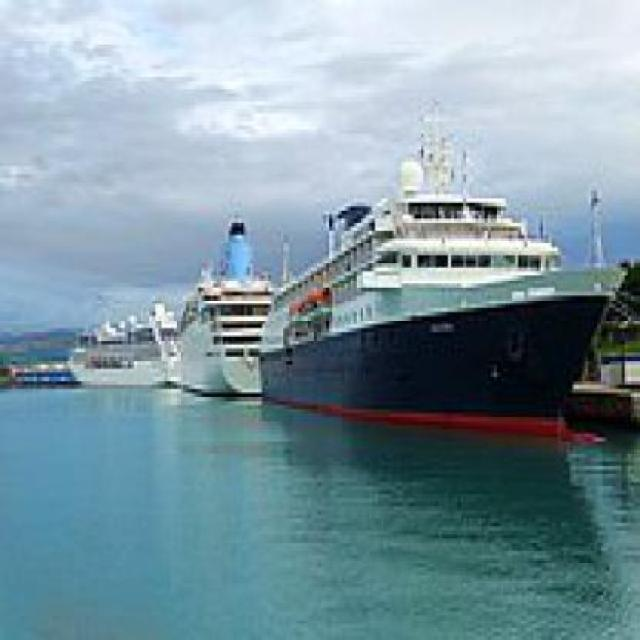cruise: (253, 151, 635, 451)
